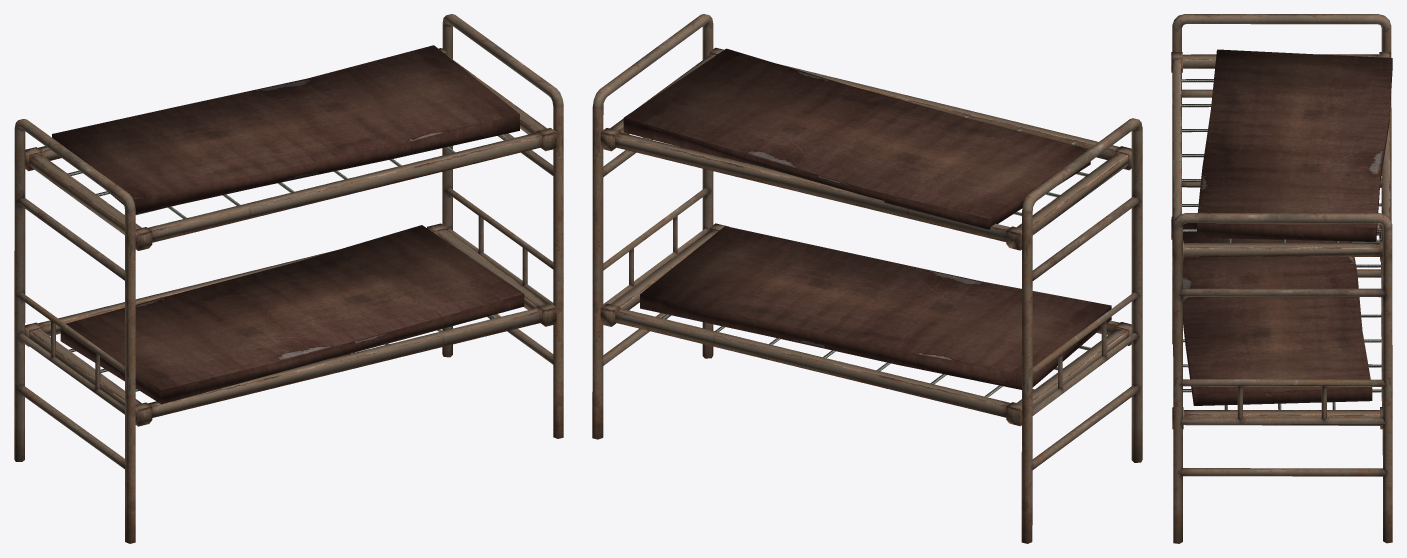
Rendered from bunk_bed.obj.
3 renders of one model, left to right at view 1: azimuth 30°, elevation 25°; view 2: azimuth 150°, elevation 25°; view 3: azimuth 270°, elevation 25°, orthographic. The views are drawn at different scales.
Size of the model in its own units: 4.22 by 3.17 by 1.94.
